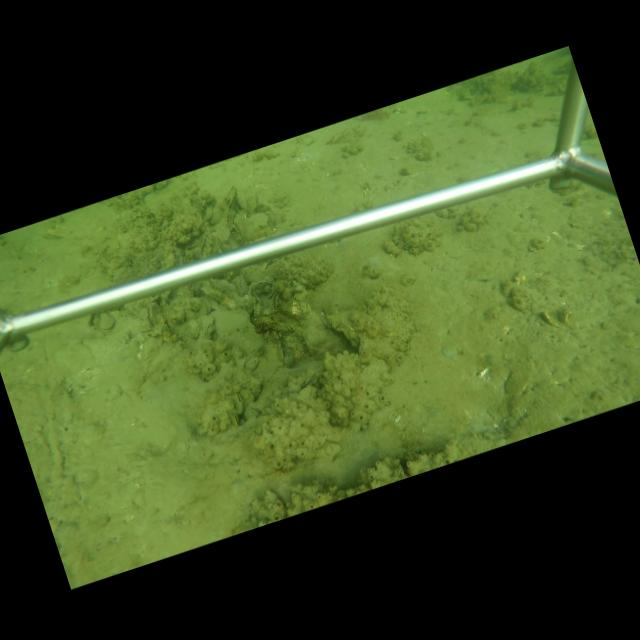Oyster-Closed: (200, 278, 247, 311), (217, 184, 238, 230), (141, 300, 164, 327), (238, 352, 261, 373), (248, 279, 278, 295), (232, 390, 248, 417), (228, 409, 241, 429)
